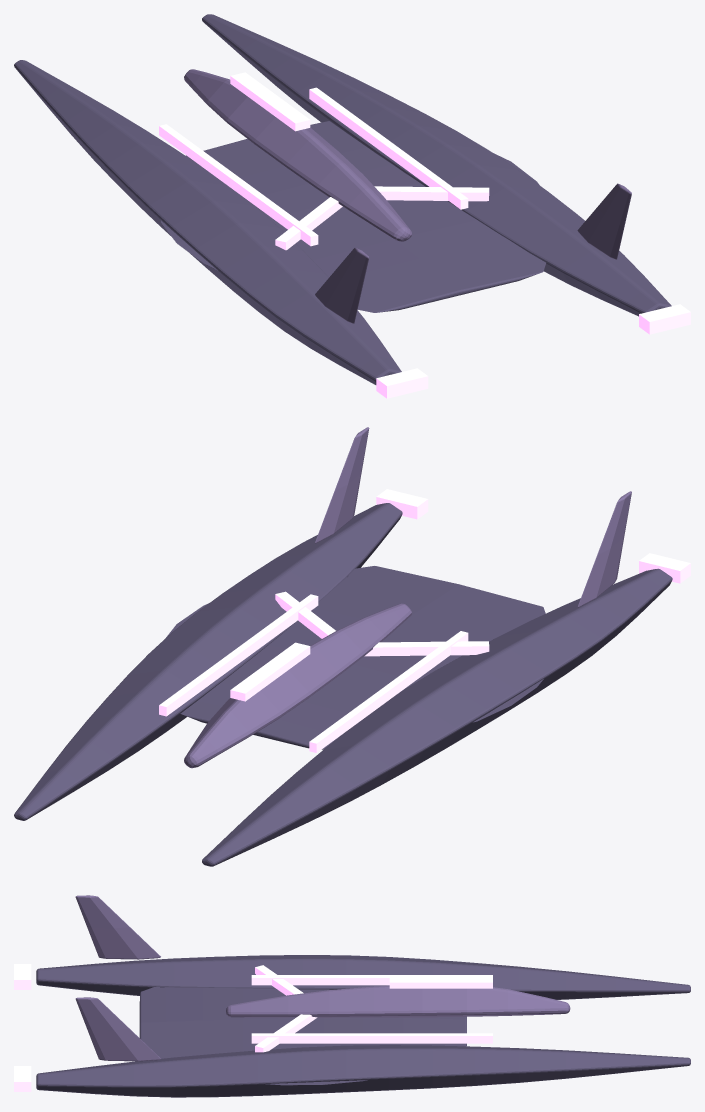
Rendered from illumaria.glb.
3 views of the same model, one above another, from view 1: azimuth 30°, elevation 25°; view 2: azimuth 150°, elevation 25°; view 3: azimuth 270°, elevation 25° (orthographic). The views are drawn at different scales.
Visible parts, largest first — view 1: cat, cat.001, hull, hull.001, Cube.001, Cube.002, fin.001, fin, Cube, Cube.004, Cube.005, Cube.006 (+1 smaller); view 2: cat, cat.001, hull, hull.001, Cube.002, Cube.001, fin, fin.001, Cube, Cube.003, Cube.006, Cube.005 (+1 smaller); view 3: cat.001, cat, hull, hull.001, fin, fin.001, Cube.002, Cube.001, Cube, Cube.004, Cube.005, Cube.006 (+1 smaller).
Part boxes in pixels (left/top/right/bottom): cat: left=14, top=60, right=401, bottom=384; cat.001: left=202, top=14, right=671, bottom=316; hull: left=161, top=121, right=545, bottom=312; hull.001: left=184, top=69, right=411, bottom=241; Cube.001: left=159, top=124, right=318, bottom=246; Cube.002: left=309, top=87, right=468, bottom=209; fin.001: left=577, top=183, right=631, bottom=259; fin: left=315, top=247, right=369, bottom=323; Cube: left=230, top=72, right=310, bottom=131; Cube.004: left=374, top=186, right=489, bottom=201; Cube.005: left=376, top=368, right=428, bottom=398; Cube.006: left=639, top=304, right=690, bottom=334; cat: left=202, top=568, right=672, bottom=866; cat.001: left=14, top=503, right=402, bottom=820; hull: left=165, top=566, right=545, bottom=749; hull.001: left=184, top=603, right=411, bottom=768; Cube.002: left=159, top=594, right=318, bottom=716; Cube.001: left=309, top=631, right=468, bottom=752; fin: left=577, top=491, right=631, bottom=607; fin.001: left=315, top=427, right=369, bottom=543; Cube: left=230, top=642, right=310, bottom=701; Cube.003: left=364, top=641, right=489, bottom=656; Cube.006: left=376, top=489, right=428, bottom=519; Cube.005: left=639, top=553, right=690, bottom=583; cat.001: left=36, top=1045, right=690, bottom=1097; cat: left=36, top=955, right=690, bottom=999; hull: left=139, top=987, right=466, bottom=1085; hull.001: left=226, top=985, right=570, bottom=1017; fin: left=75, top=895, right=160, bottom=959; fin.001: left=75, top=997, right=160, bottom=1061; Cube.002: left=251, top=1033, right=492, bottom=1043; Cube.001: left=251, top=975, right=492, bottom=985; Cube: left=389, top=976, right=492, bottom=988; Cube.004: left=255, top=1014, right=317, bottom=1052; Cube.005: left=14, top=964, right=31, bottom=989; Cube.006: left=14, top=1066, right=31, bottom=1091.
Bounding box in the file's own units: 1.78 × 0.5884 × 3.93.
